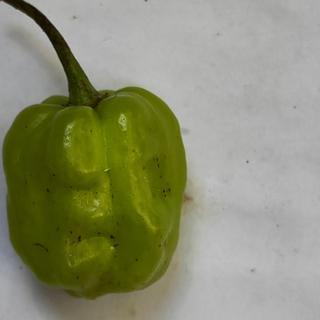Fly-bites: (74, 231, 89, 250), (71, 271, 86, 285), (43, 182, 54, 198), (90, 229, 106, 239), (112, 241, 120, 250), (109, 233, 116, 241), (155, 162, 162, 169), (167, 186, 172, 193), (163, 194, 168, 199), (159, 174, 164, 179), (134, 257, 139, 262), (69, 230, 74, 235), (162, 189, 166, 194)
striped: (31, 241, 51, 254)
